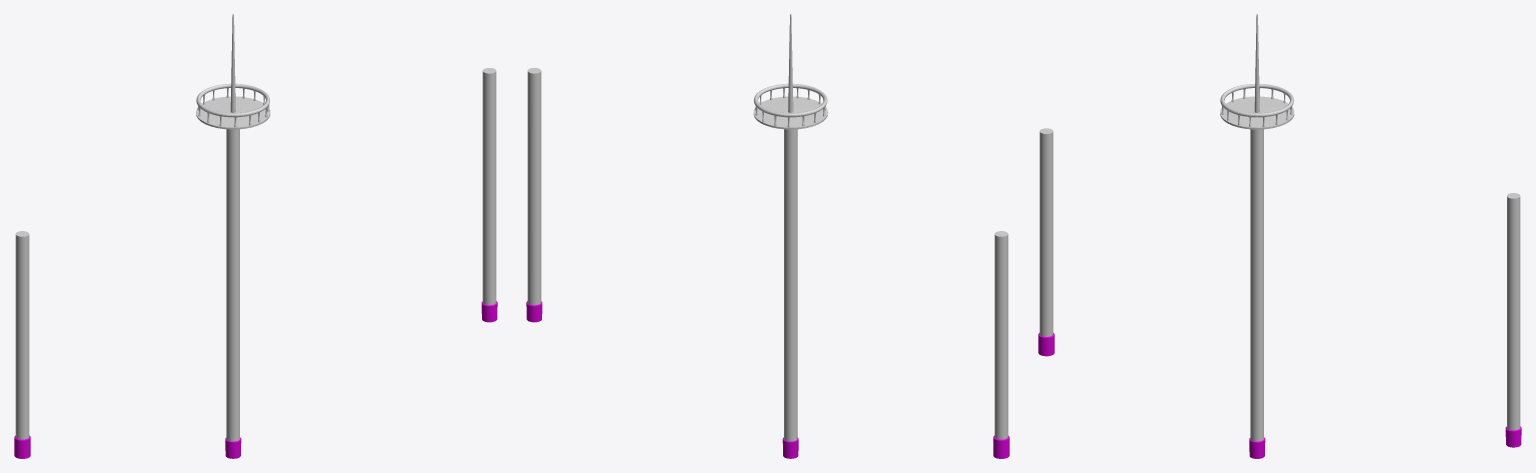
The model's file is Masts.fbx.
3 renders of one model, left to right at view 1: azimuth 30°, elevation 25°; view 2: azimuth 150°, elevation 25°; view 3: azimuth 330°, elevation 25°, orthographic.
Visible parts, largest first — view 1: Cylinder.033; view 2: Cylinder.033; view 3: Cylinder.033.
Boxes of the visible parts, bbox=[...] form: Cylinder.033: bbox=[14, 14, 497, 458]; Cylinder.033: bbox=[526, 14, 1009, 458]; Cylinder.033: bbox=[1038, 14, 1521, 458].
Size of the model in its own units: 3201 by 2806 by 429.
